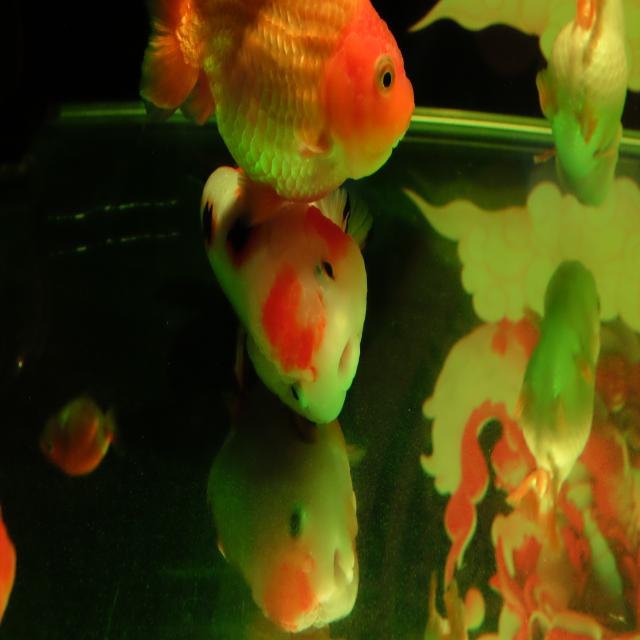Tilapia: (138, 0, 414, 206), (200, 161, 372, 427), (532, 0, 630, 213)
